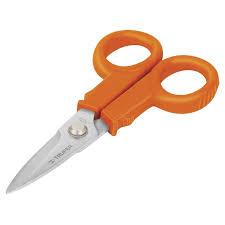tihiras: (7, 26, 221, 203)
